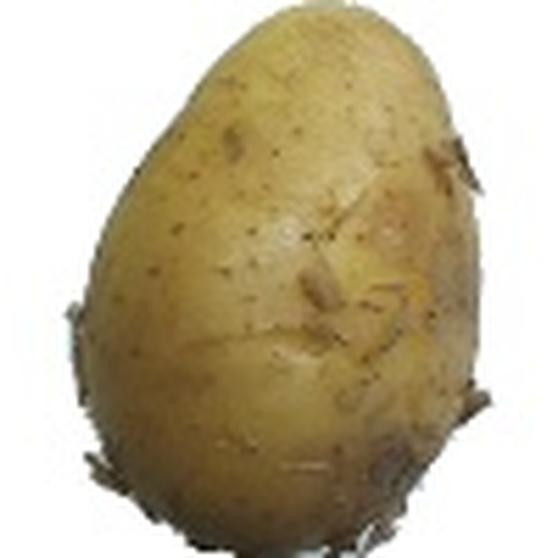potato: (69, 3, 482, 558)
